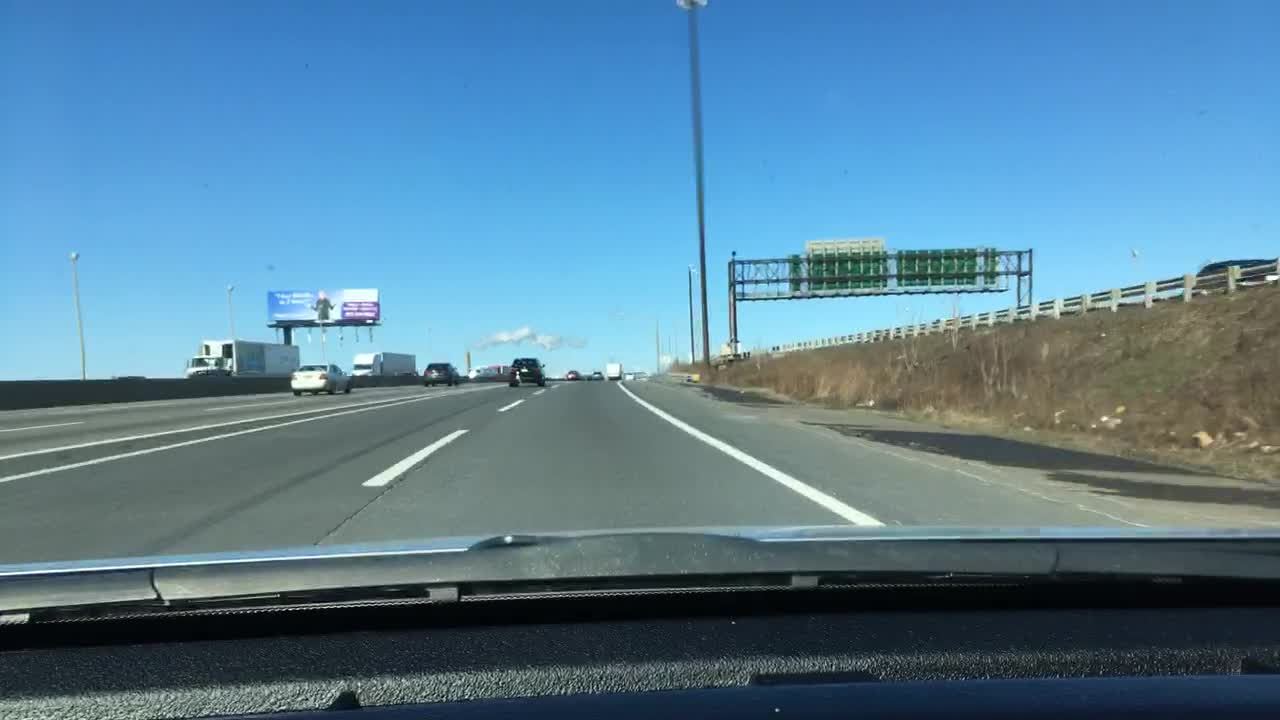car: (1196, 258, 1279, 283), (290, 361, 352, 393), (508, 358, 550, 388), (422, 361, 460, 386), (587, 368, 604, 381), (563, 368, 582, 378)
traffic sign: (788, 253, 887, 293), (892, 246, 997, 283), (803, 239, 886, 253)
truck: (187, 337, 300, 378), (354, 351, 417, 376), (465, 363, 509, 380), (607, 361, 622, 380)
